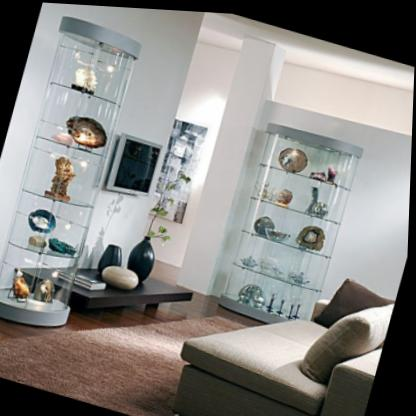Carpet: (0, 314, 246, 416)
Cupboard: (0, 13, 143, 338), (216, 110, 367, 335)
Sofa: (166, 235, 399, 416)
